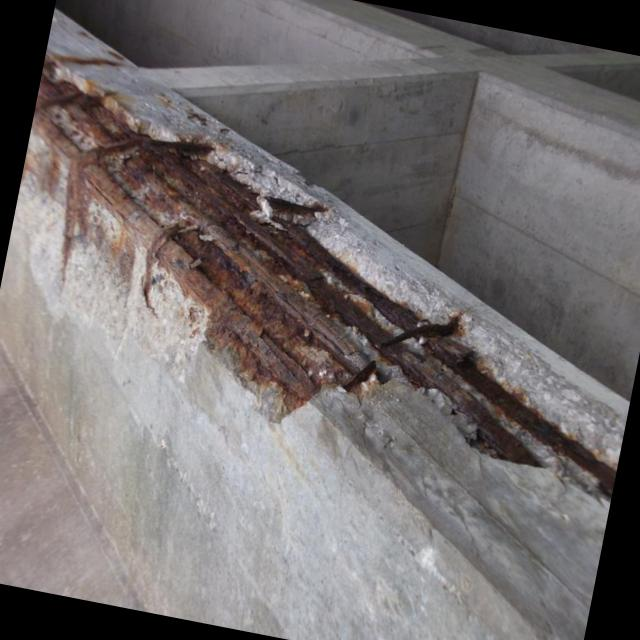spalling: (14, 49, 617, 506)
